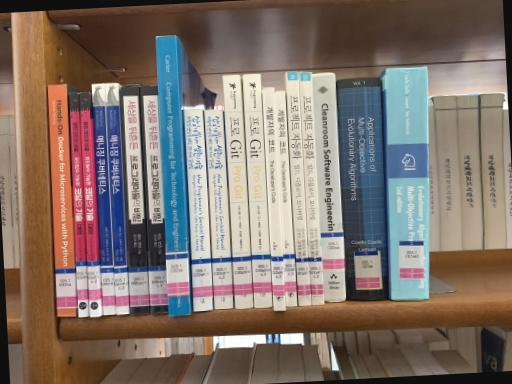book-spine: (335, 77, 389, 301), (385, 67, 428, 301), (155, 36, 190, 316), (312, 72, 346, 303), (222, 75, 254, 309), (243, 74, 273, 308), (47, 84, 77, 317), (120, 86, 150, 315), (139, 85, 168, 314), (183, 109, 214, 312), (203, 109, 234, 309), (299, 72, 325, 306), (286, 71, 311, 306), (91, 83, 116, 315), (104, 83, 129, 315), (262, 87, 286, 311), (275, 91, 297, 306), (68, 92, 88, 318), (79, 92, 99, 318)
